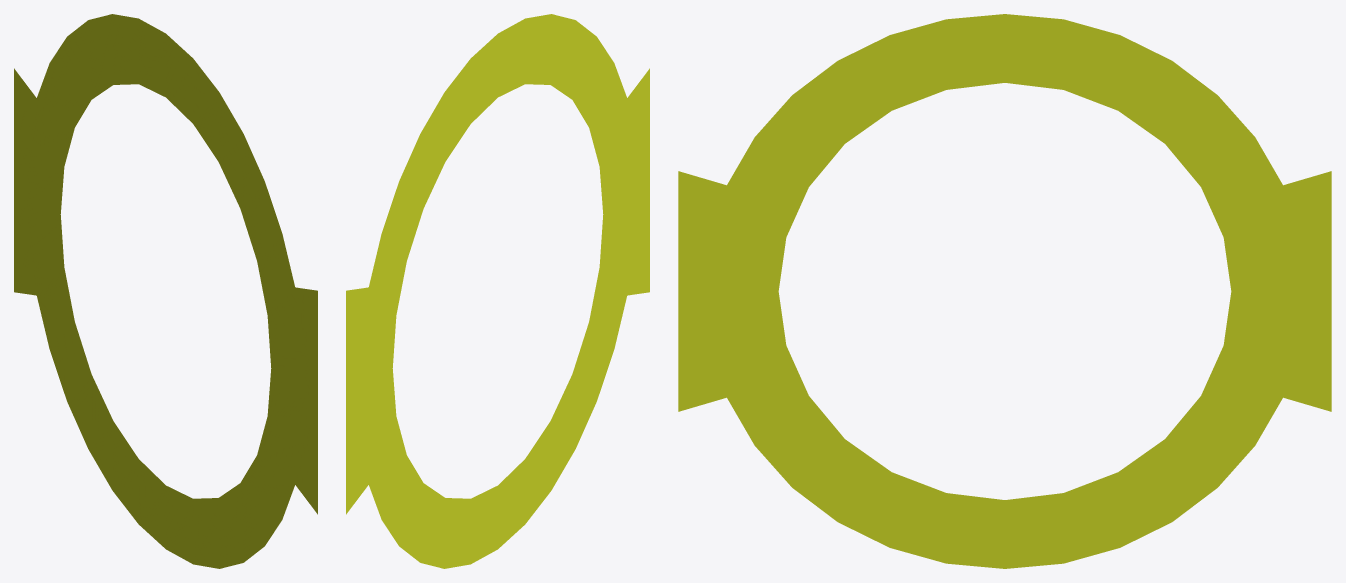
The model's file is Checkpoint.fbx.
3 renders of one model, left to right at view 1: azimuth 30°, elevation 25°; view 2: azimuth 150°, elevation 25°; view 3: azimuth 270°, elevation 25°, orthographic. The views are drawn at different scales.
Parts seen in each view (by area): view 1: Cube; view 2: Cube; view 3: Cube.
Part boxes in pixels (x1,y1,x2,y2): Cube: (14, 14, 317, 568); Cube: (346, 14, 649, 568); Cube: (678, 14, 1331, 568).
Size of the model in its own units: 4.89e-05 by 744 by 795.
